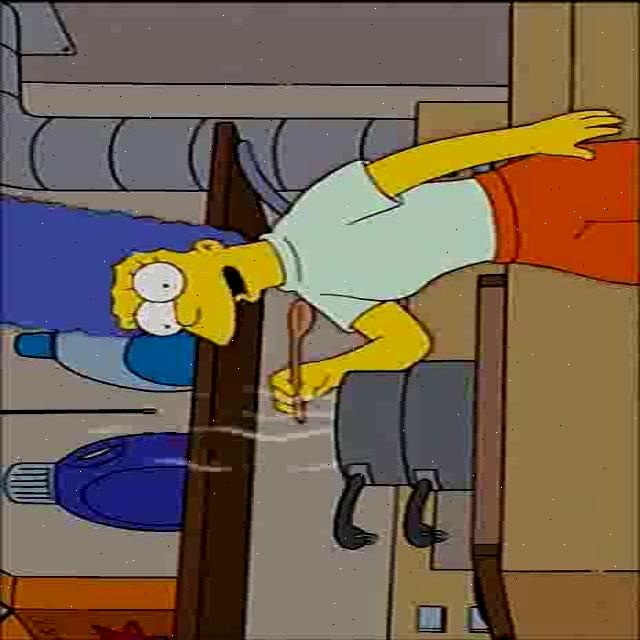Marge Simpson: (0, 192, 286, 346)
